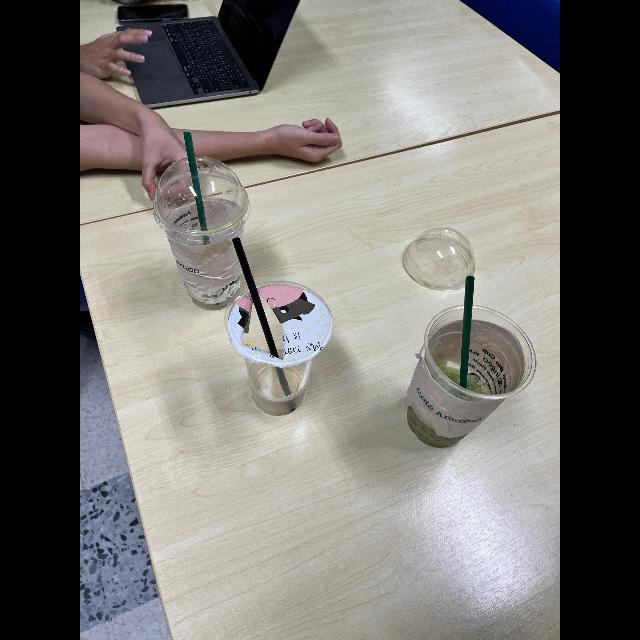plastic_cup: (395, 302, 537, 454), (155, 158, 251, 318), (224, 284, 336, 418)
plastic_cup_lid: (152, 158, 258, 236), (396, 228, 478, 288)
straw: (223, 237, 297, 397), (179, 121, 213, 249), (450, 277, 478, 397)
